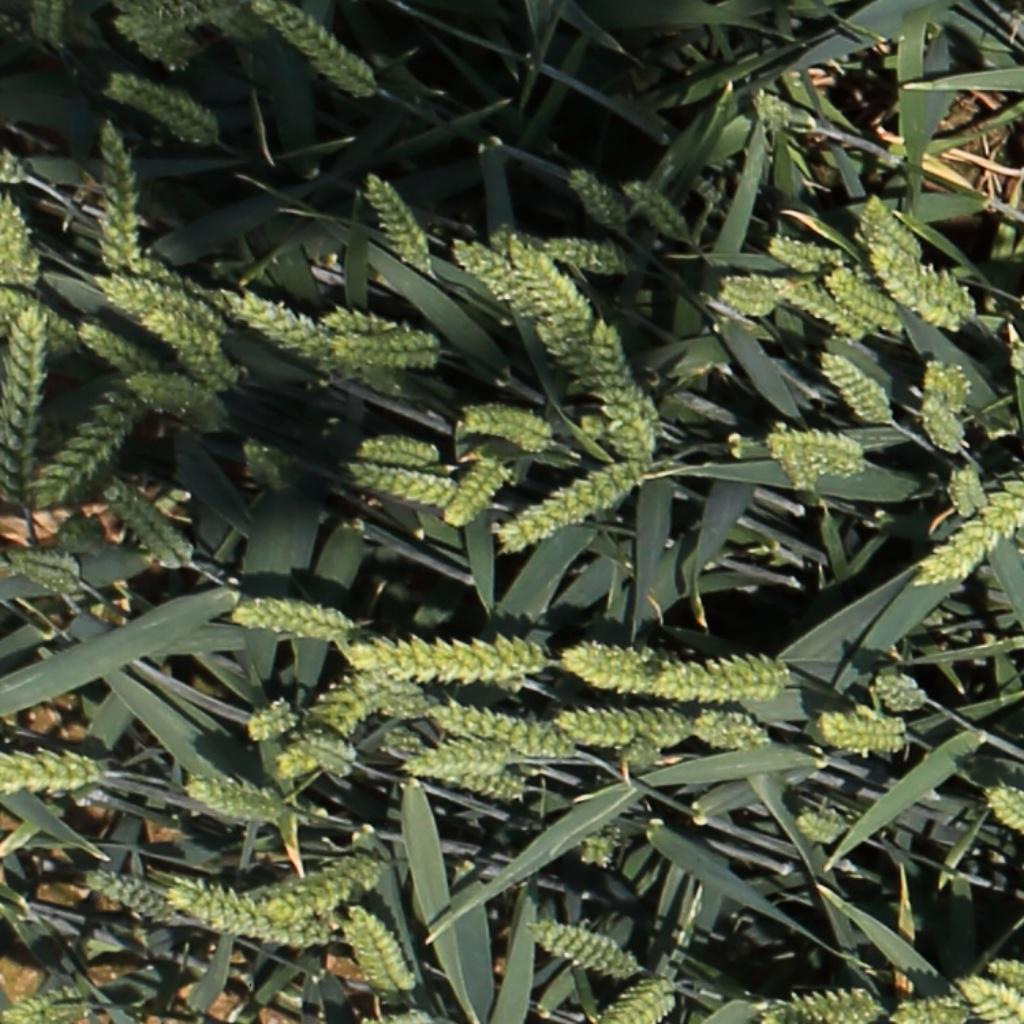0-0: (502, 230, 619, 408), (498, 458, 651, 561), (28, 384, 142, 518), (909, 470, 1024, 598), (270, 667, 381, 783), (165, 872, 336, 947), (248, 0, 376, 92), (329, 633, 550, 685), (248, 849, 399, 924), (0, 303, 52, 512), (387, 730, 530, 804), (592, 316, 661, 464), (423, 699, 579, 761), (102, 71, 224, 149), (215, 283, 331, 365), (654, 643, 799, 708), (102, 480, 200, 575), (141, 303, 242, 388), (334, 903, 425, 997), (871, 243, 979, 316), (96, 110, 144, 273), (120, 367, 236, 434), (359, 169, 430, 274), (545, 703, 696, 752), (106, 4, 205, 75), (80, 864, 183, 931), (180, 769, 303, 825), (527, 920, 642, 977), (760, 275, 865, 337), (229, 594, 360, 643), (558, 636, 663, 697), (449, 231, 523, 309), (751, 983, 890, 1024), (877, 264, 962, 330), (620, 175, 695, 249), (819, 349, 892, 425), (441, 451, 510, 531), (814, 703, 911, 759), (399, 731, 519, 776), (326, 333, 446, 377), (566, 164, 636, 238), (456, 398, 552, 451), (766, 426, 867, 476), (0, 283, 79, 345), (346, 462, 456, 506), (0, 745, 105, 791), (185, 0, 254, 69), (351, 666, 436, 722), (860, 188, 924, 260), (354, 433, 451, 478), (540, 233, 634, 279), (75, 322, 158, 374), (827, 270, 901, 327), (690, 704, 774, 754), (602, 974, 686, 1024), (102, 277, 202, 319), (764, 417, 821, 488), (0, 985, 103, 1024), (318, 302, 422, 340), (1, 189, 41, 283), (579, 406, 675, 445), (6, 545, 86, 591), (290, 728, 365, 777), (914, 356, 976, 415), (952, 974, 1024, 1024), (233, 694, 301, 743), (234, 435, 286, 499), (916, 390, 968, 453), (767, 235, 850, 274), (715, 273, 781, 317), (567, 827, 627, 875), (29, 0, 84, 49), (980, 779, 1024, 840), (872, 672, 934, 715), (950, 461, 993, 522), (787, 807, 851, 846), (884, 996, 972, 1024), (749, 86, 793, 128), (360, 1005, 446, 1024), (984, 953, 1024, 993), (0, 144, 31, 190), (1001, 333, 1024, 380)
